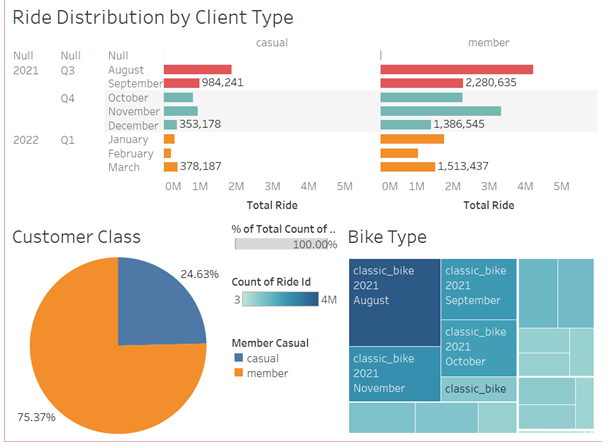

What the dashboard file says about the page in this screenshot:
{"tool":"tableau","page":{"name":"Bike_Performance","canvas":[1024,768],"ordinal":0},"visuals":[{"type":"worksheet","title":"Service_By_memberType","mark":"Bar","rows":["started_at","started_at","started_at"],"cols":["member_casual","ride_id"],"box":[13,13,998,371]},{"type":"worksheet","title":"CustomerType","mark":"Pie","box":[13,384,373.9,371]},{"type":"legend","title":"CustomerType","param":"[sqlproxy.0so4jle0k8wxc01a04wp11obxd40].[pcto:cnt:ride_id:qk]","box":[386.9,384,190.6,89]},{"type":"worksheet","title":"Bike Type","mark":"Automatic","box":[577.5,384,433.5,371]},{"type":"legend","title":"Bike Type","param":"[sqlproxy.0so4jle0k8wxc01a04wp11obxd40].[cnt:ride_id:qk]","box":[386.9,473,190.6,103]},{"type":"legend","title":"CustomerType","param":"[sqlproxy.0so4jle0k8wxc01a04wp11obxd40].[none:member_casual:nk]","box":[386.9,576,190.6,179]}]}

Visuals, with their boxes in screenshot pixels (x1, y1, x2, y2), scaled from the page's 1024x768 canvas onto the 608x443 screenshot:
"Service_By_memberType" worksheet (Bar marks): region(8, 7, 600, 222)
"CustomerType" worksheet (Pie marks): region(8, 222, 230, 436)
"CustomerType" legend: region(230, 222, 343, 273)
"Bike Type" worksheet: region(343, 222, 600, 436)
"Bike Type" legend: region(230, 273, 343, 332)
"CustomerType" legend: region(230, 332, 343, 436)
